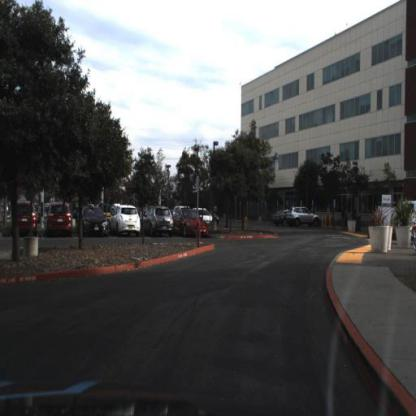car: (109, 203, 144, 239), (141, 203, 175, 239), (173, 207, 210, 240), (44, 202, 74, 240), (78, 206, 110, 238), (12, 202, 39, 239), (287, 205, 323, 230), (200, 207, 214, 225)
